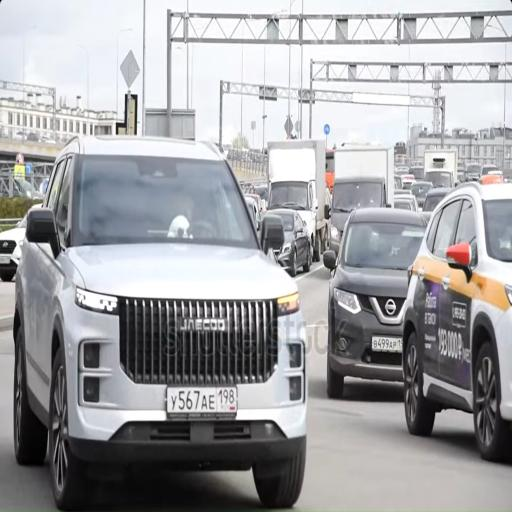License plates: (167, 387, 237, 416), (372, 337, 402, 352), (0, 256, 10, 264)
